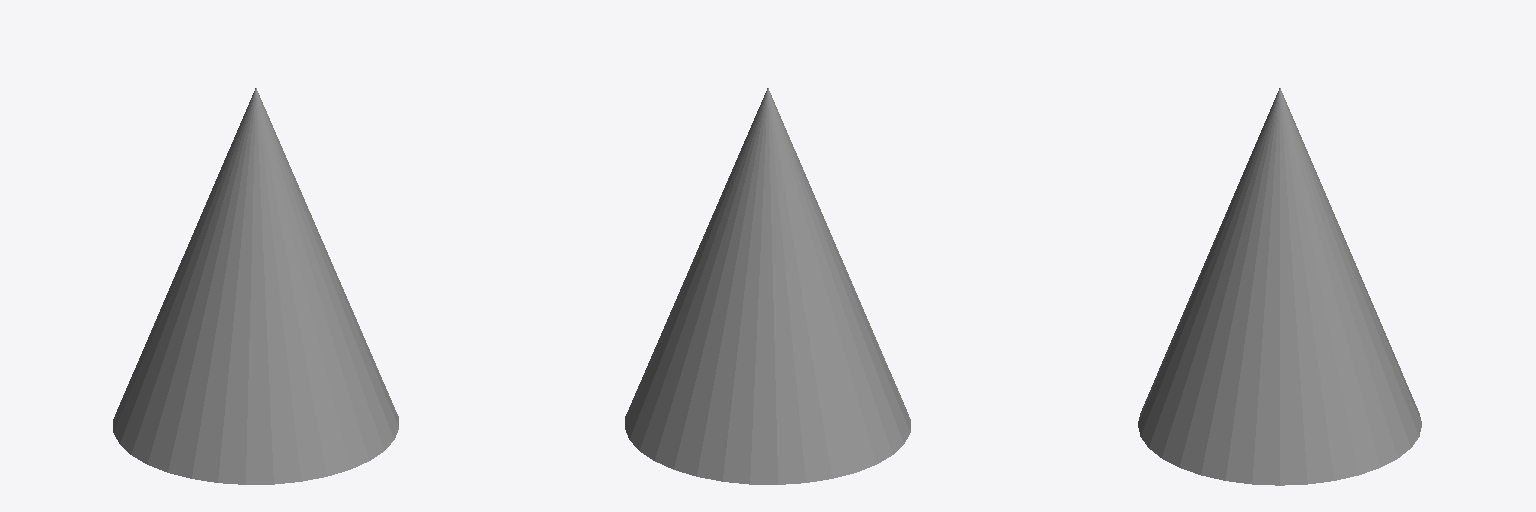
Rendered from redTriangle.obj.
The picture shows the model from 3 angles: view 1: azimuth 30°, elevation 25°; view 2: azimuth 150°, elevation 25°; view 3: azimuth 270°, elevation 25°; orthographic projection.
Visible parts, largest first — view 1: Cone; view 2: Cone; view 3: Cone.
Boxes of the visible parts, <box> form: Cone: <box>113,88,398,484</box>; Cone: <box>625,88,910,484</box>; Cone: <box>1138,88,1421,485</box>.
Bounding box in the file's own units: 1.31 × 1.69 × 1.29.